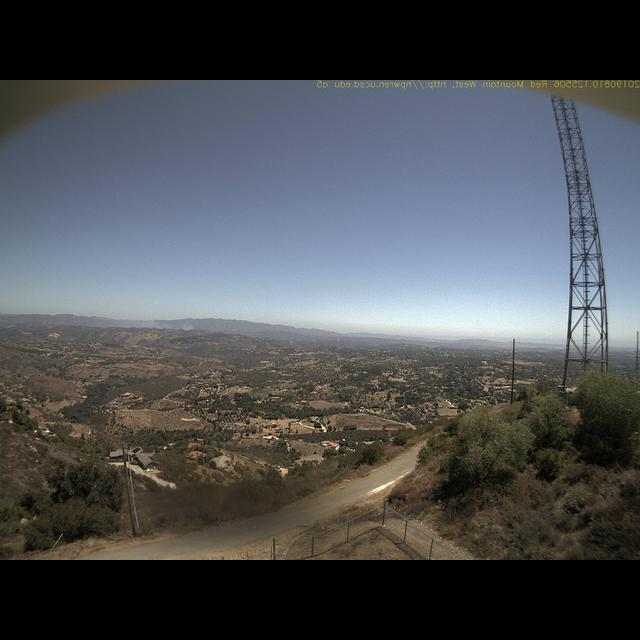Smoke: (73, 312, 201, 331)
